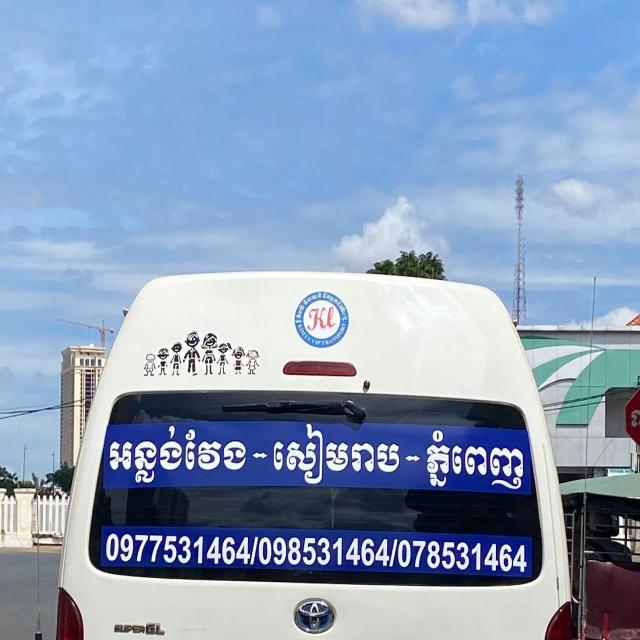480: (101, 527, 535, 579)
Yolov11_80vkh: (264, 422, 409, 492), (102, 424, 255, 490), (419, 424, 530, 497)
